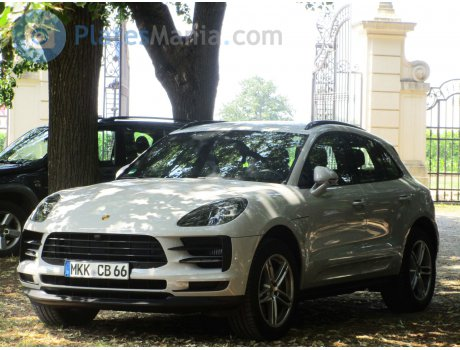License Plates: (72, 261, 128, 273)
